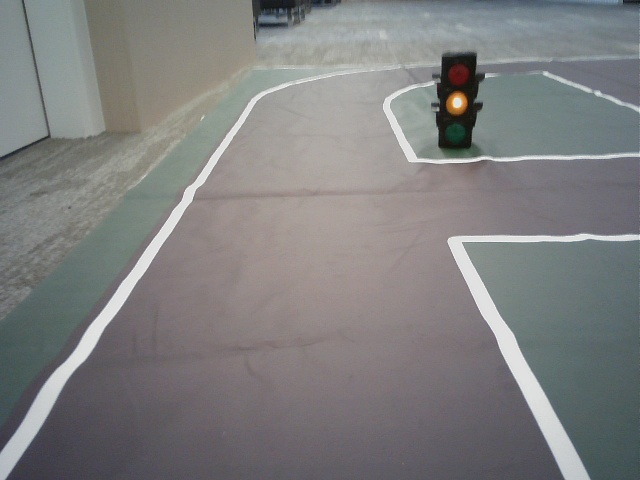yellow: (441, 58, 473, 142)
